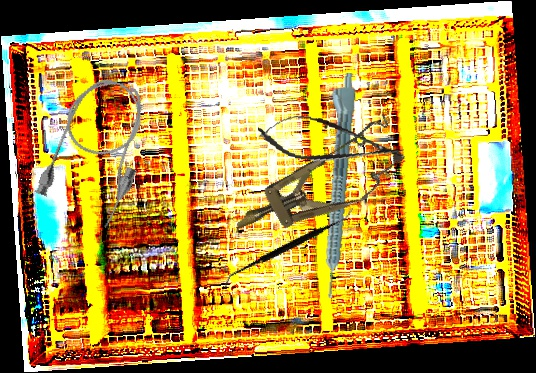Cannula: (31, 68, 165, 232)
Handpiece: (312, 71, 358, 299)
Micro Scissor: (254, 107, 408, 176)
Spatula Surgical: (223, 171, 355, 325)
Speculum: (222, 112, 415, 257)
